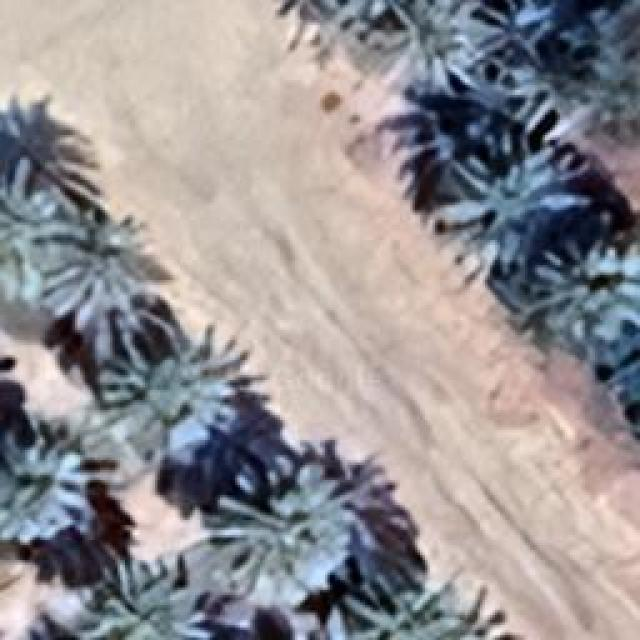PalmTree: (469, 0, 632, 142), (35, 200, 170, 340), (422, 138, 582, 252), (69, 26, 314, 93), (95, 330, 230, 442), (200, 475, 325, 595), (532, 235, 638, 363), (360, 0, 492, 98), (0, 425, 112, 540), (0, 92, 98, 218), (72, 558, 212, 638), (480, 0, 579, 70), (338, 574, 442, 638), (21, 93, 69, 220)
